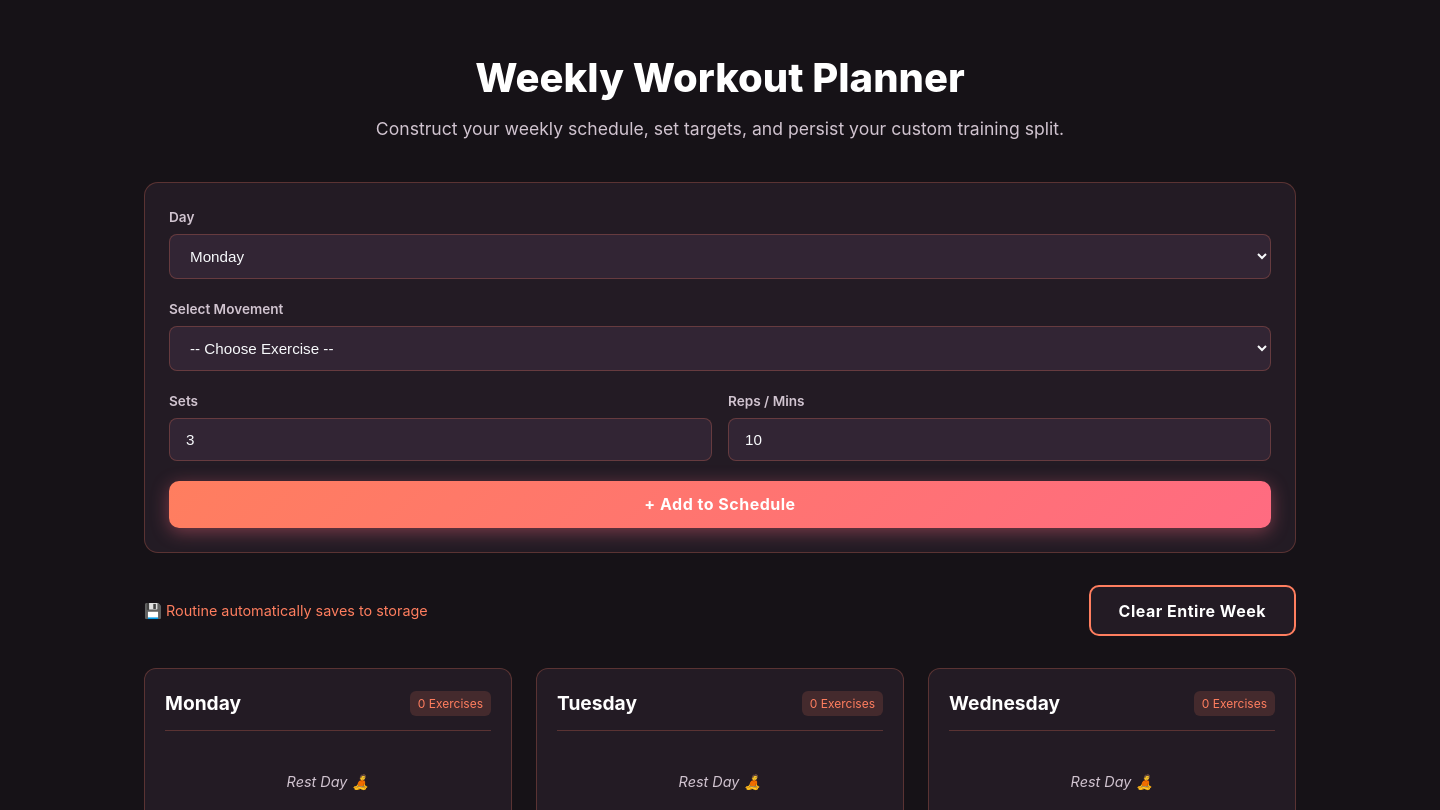
Test: WorkoutPlanner Component › adds an exercise to the selected day and updates localStorage
Select movement option
Select "Barbell Bench Press (strength)" in the dropdown labelled "Select Movement" at (720, 348), box [169, 326, 1271, 371]
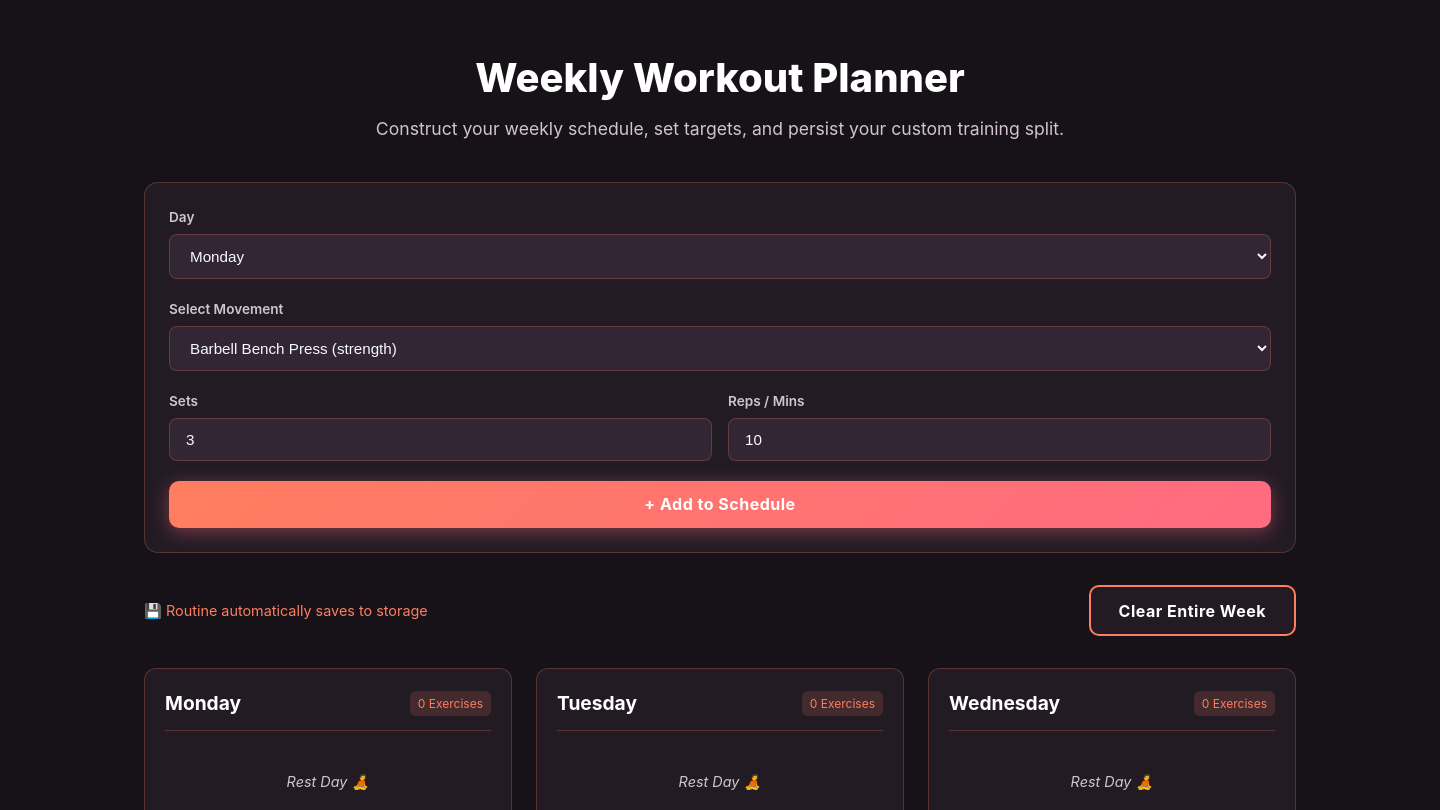
Submit form
Click the button "+ Add to Schedule".
click(720, 504)  # box [169, 481, 1271, 528]
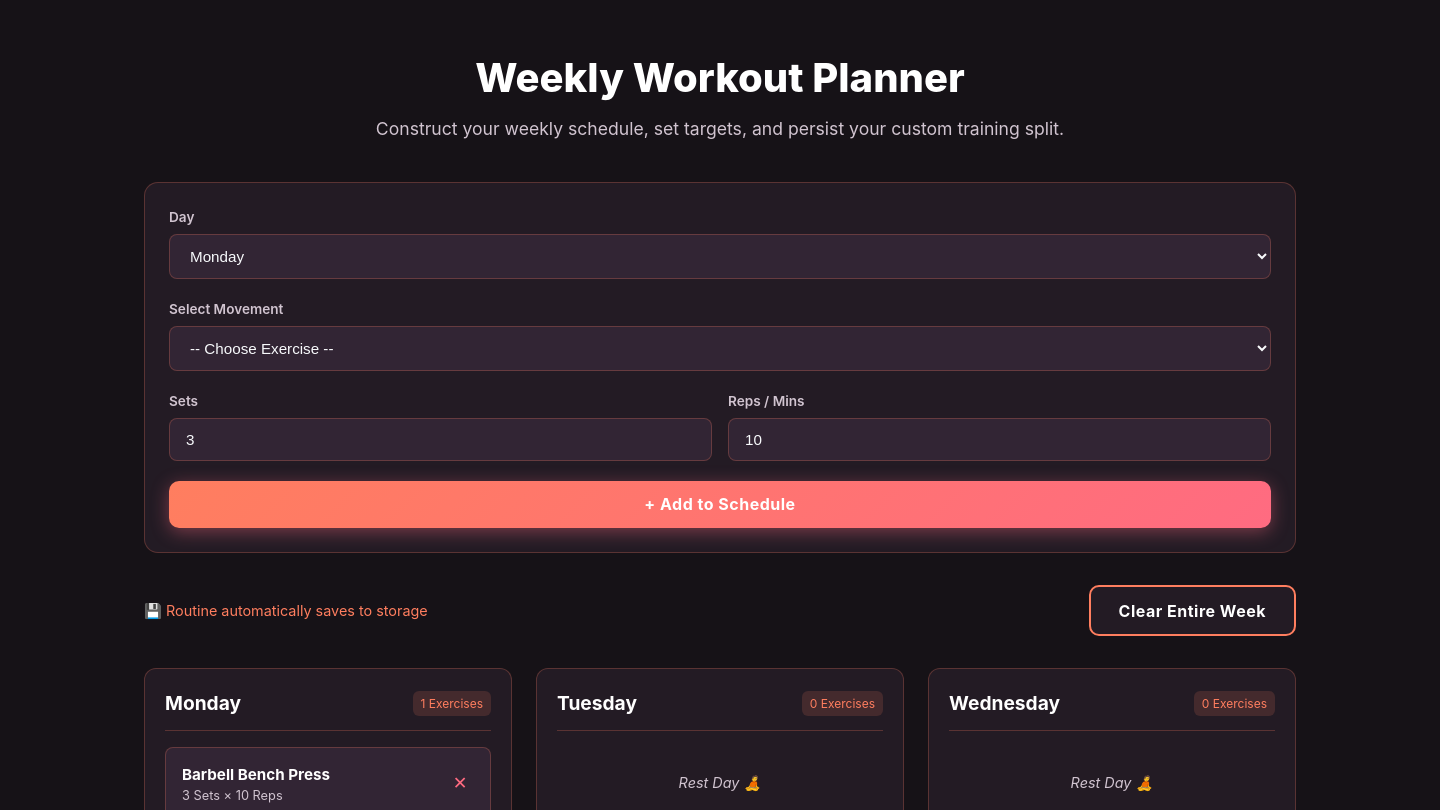
Expected: the text "Barbell Bench Press" is shown, [182, 764, 330, 784]
Expected: the text "3 Sets × 10 Reps" is shown, [182, 788, 283, 802]
Expected: the text "1 Exercises" is shown, [412, 691, 491, 716]
